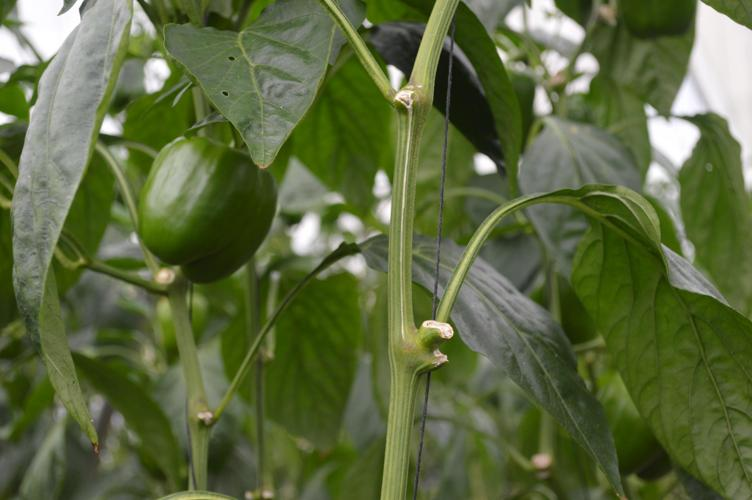BellPepper: (118, 131, 292, 298)
